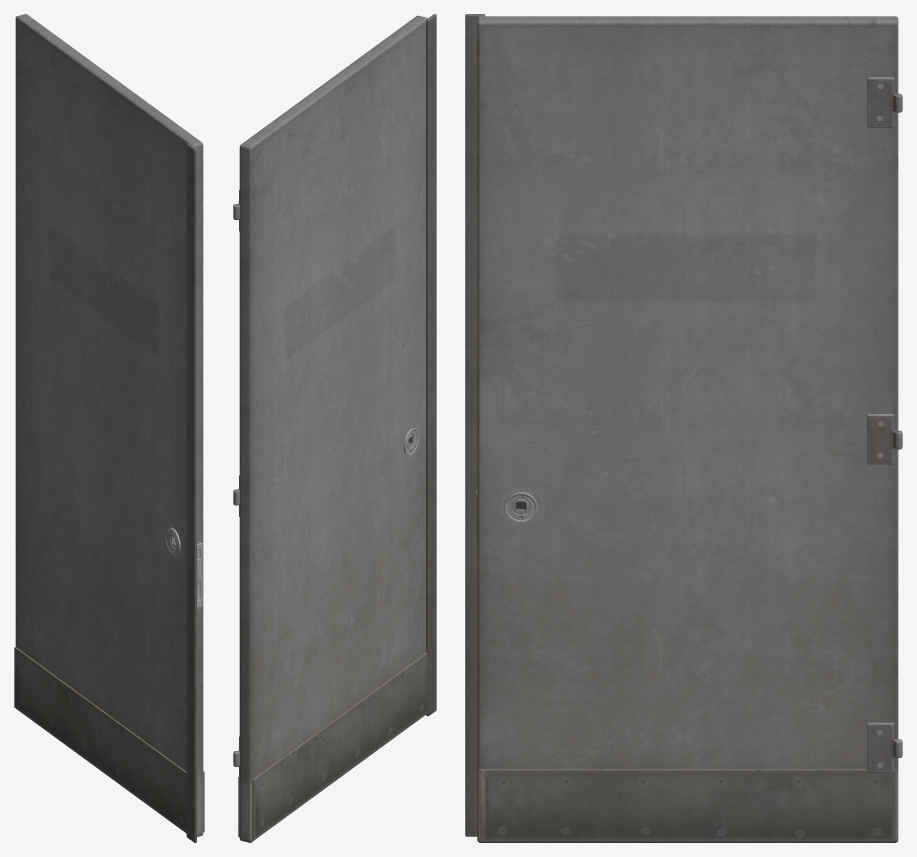
Rendered from SM_LeftDoor_01.fbx.
The picture shows the model from 3 angles, left to right: view 1: azimuth 30°, elevation 25°; view 2: azimuth 150°, elevation 25°; view 3: azimuth 270°, elevation 25°; orthographic projection. The views are drawn at different scales.
Visible parts, largest first — view 1: SM_LeftDoor_01_LOD0; view 2: SM_LeftDoor_01_LOD0; view 3: SM_LeftDoor_01_LOD0.
Boxes of the visible parts, box(x1,y1,x2,y2) form: SM_LeftDoor_01_LOD0: box(14, 14, 204, 842); SM_LeftDoor_01_LOD0: box(233, 14, 436, 842); SM_LeftDoor_01_LOD0: box(465, 14, 902, 842).
Size of the model in its own units: 6.53 by 105 by 218.
